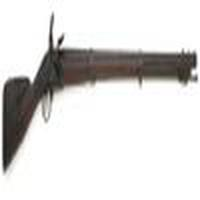gun: (2, 41, 200, 170)
